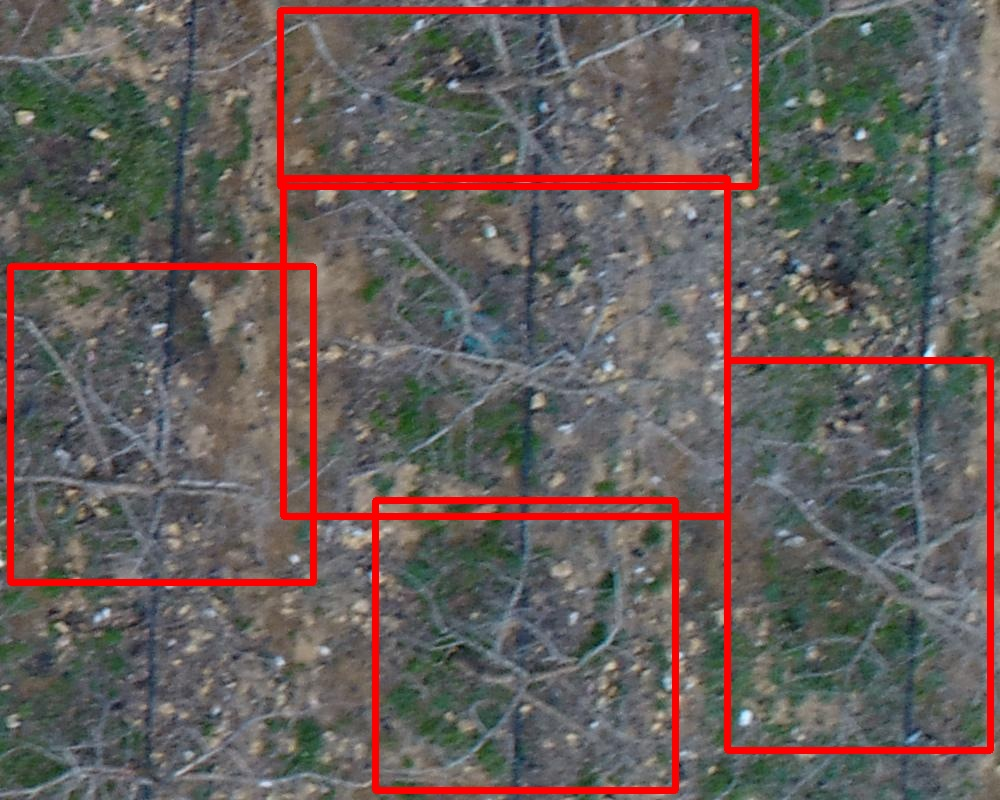apple: (283, 178, 727, 516), (727, 360, 990, 750), (10, 266, 313, 582), (375, 500, 675, 790), (280, 10, 755, 186)
